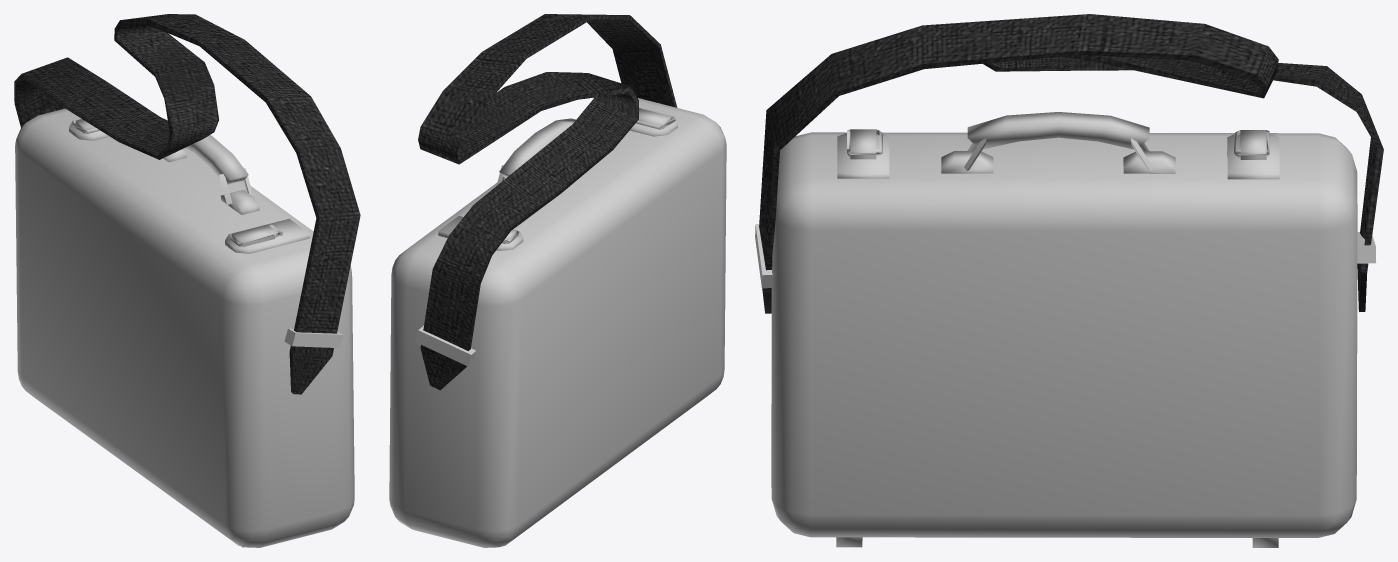
The model's file is briefcase_dropped.FBX.
The picture shows the model from 3 angles, left to right: view 1: azimuth 30°, elevation 25°; view 2: azimuth 150°, elevation 25°; view 3: azimuth 270°, elevation 25°; orthographic projection. The views are drawn at different scales.
Parts seen in each view (by area): view 1: briefcase_dropped; view 2: briefcase_dropped; view 3: briefcase_dropped.
Boxes of the visible parts, left/top/right/bottom form: briefcase_dropped: left=14, top=14, right=360, bottom=547; briefcase_dropped: left=389, top=14, right=726, bottom=547; briefcase_dropped: left=755, top=14, right=1383, bottom=547.
Bounding box in the file's own units: 13.42 × 40.08 × 43.48.
